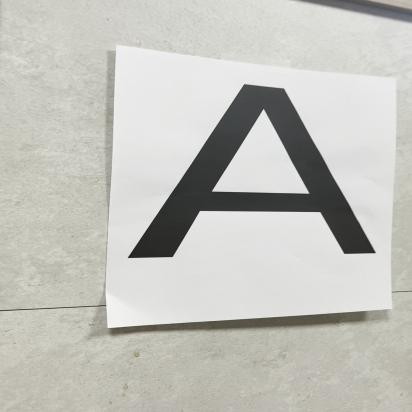seat: (120, 81, 399, 282)
